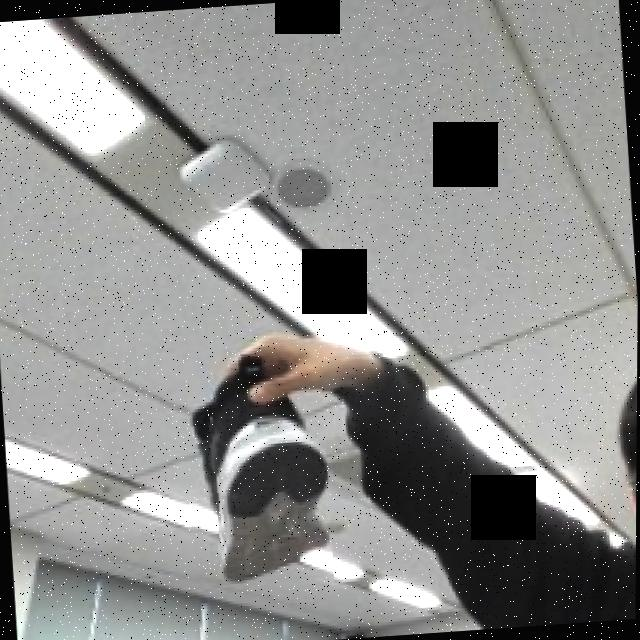shoe: (172, 338, 336, 587)
